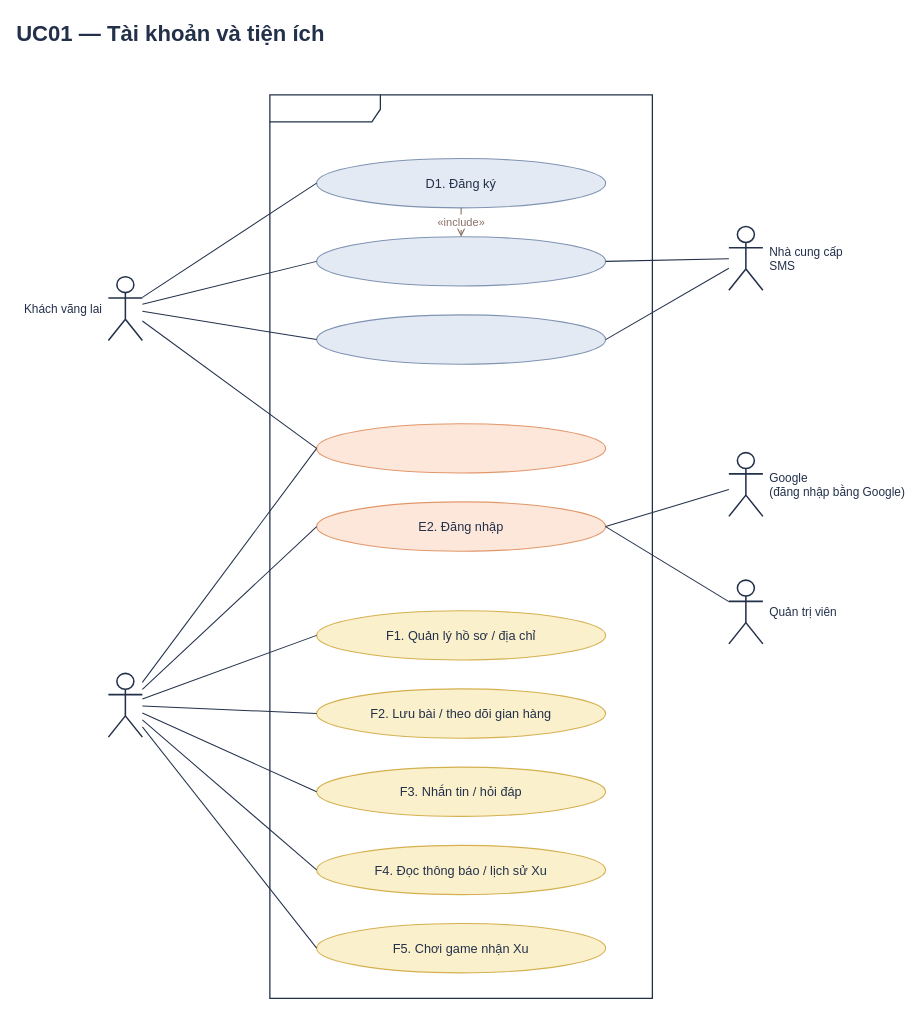
The diagram is 920 pixels wide and 1013 high, and some of its shapes have lost their labels. The box of each missing label's shape, as (x1, y1, x2, y2) in pixels:
AntGo: (269, 94, 653, 999)
D2. Xác minh OTP: (316, 236, 606, 286)
D3. Khôi phục mật khẩu: (316, 314, 606, 364)
E1. Tìm kiếm / xem chi tiết: (316, 423, 606, 473)
Thành viên: (107, 672, 143, 737)
